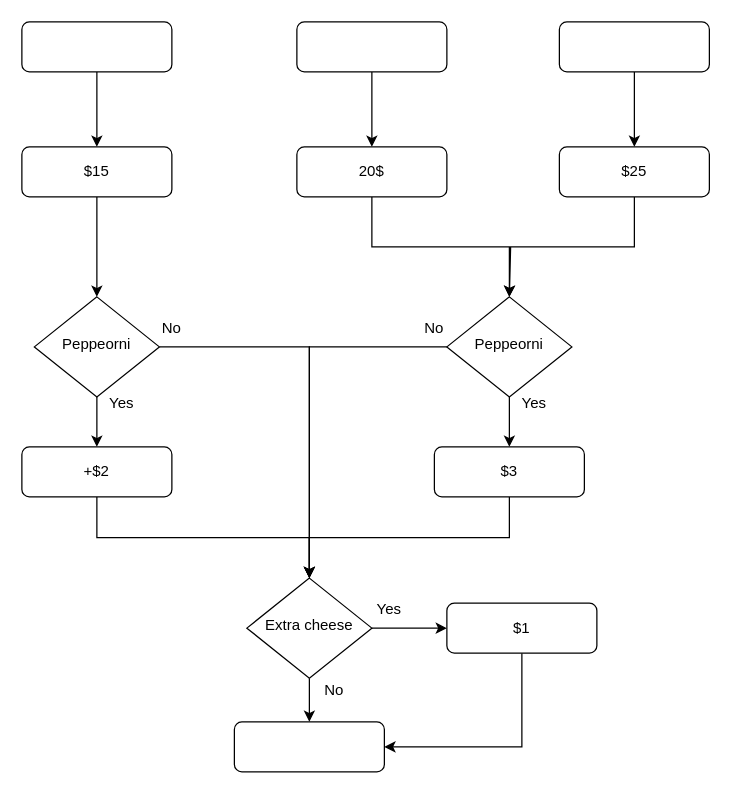
Some shapes in this 731 by 794 pixel diagram are drawn without their labels. The centre of each missing label's shape, as x and y in pixels:
"Large" goes at point (633, 46).
"Medium" goes at point (371, 46).
"Small" goes at point (96, 46).
"Your final bill is $x" goes at point (308, 746).
